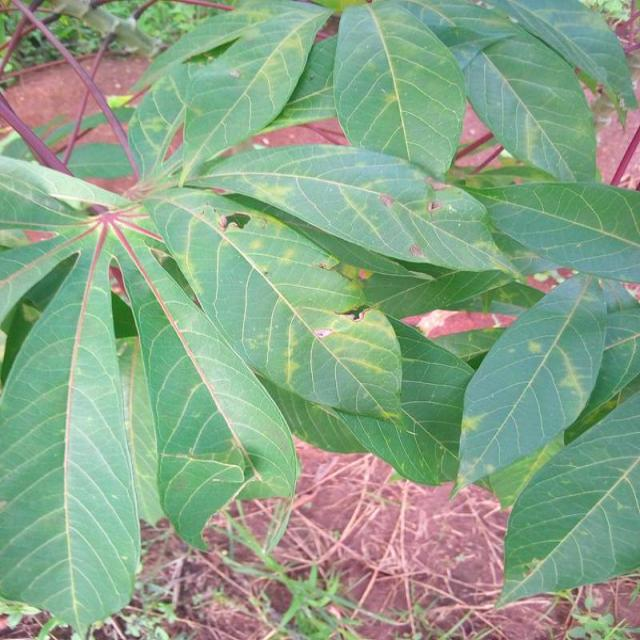cassava leaf: (1, 0, 638, 635), (0, 225, 142, 636), (331, 0, 466, 180)
